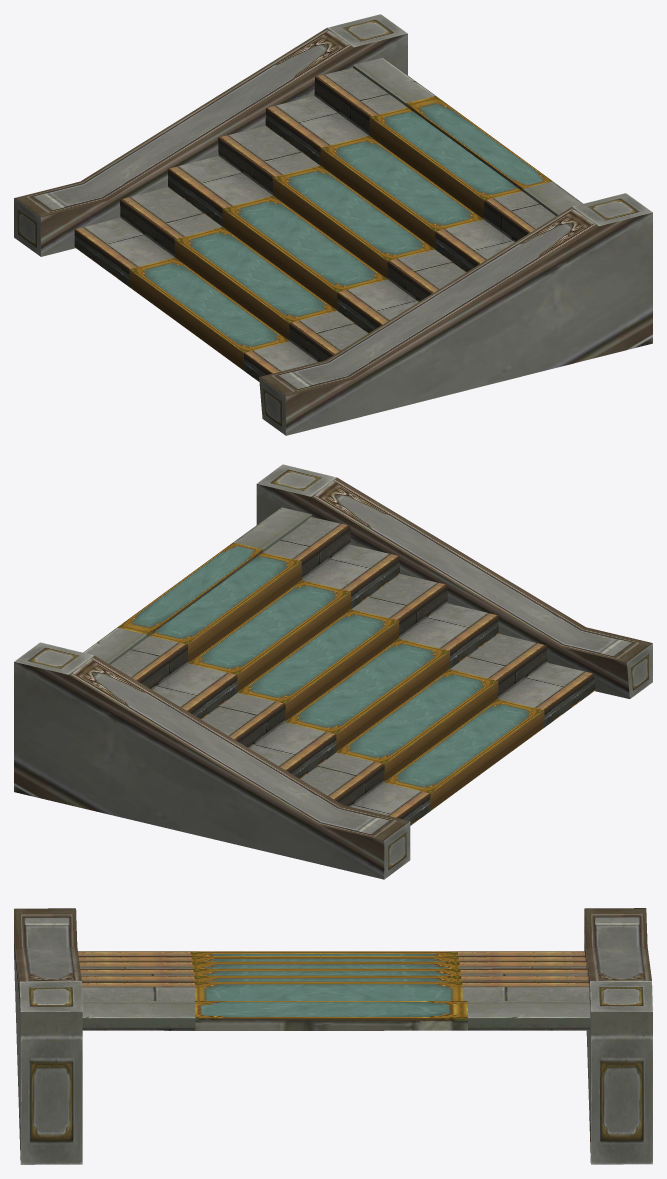
The model's file is Yland1_lt_02 Yland1.FBX.
3 views of the same model, one above another, from view 1: azimuth 30°, elevation 25°; view 2: azimuth 150°, elevation 25°; view 3: azimuth 270°, elevation 25° (orthographic). The views are drawn at different scales.
Visible parts, largest first — view 1: Yland1_lt_02 Yland1; view 2: Yland1_lt_02 Yland1; view 3: Yland1_lt_02 Yland1.
Boxes of the visible parts, x1,y1,x2,y2 form: Yland1_lt_02 Yland1: (14, 14, 652, 435); Yland1_lt_02 Yland1: (14, 464, 652, 879); Yland1_lt_02 Yland1: (14, 908, 652, 1164).
Size of the model in its own units: 6.6 by 2.23 by 8.45.
